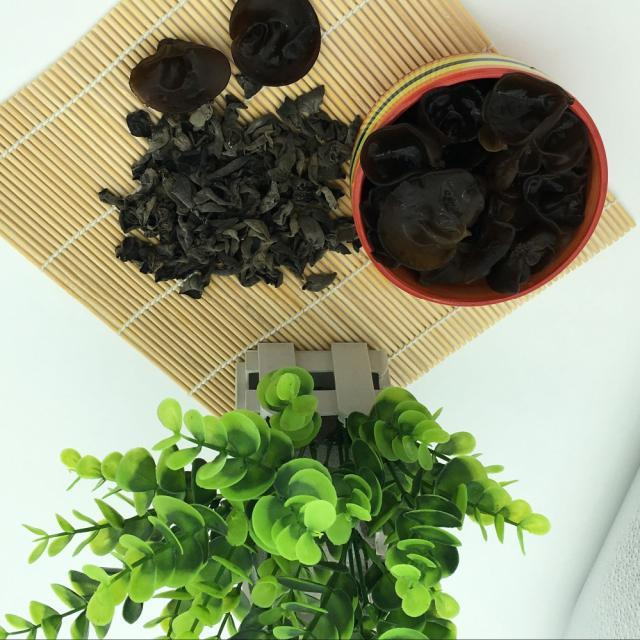Auricularia auricula: (284, 337, 543, 545), (48, 343, 281, 561), (412, 520, 516, 605), (322, 552, 412, 640)
